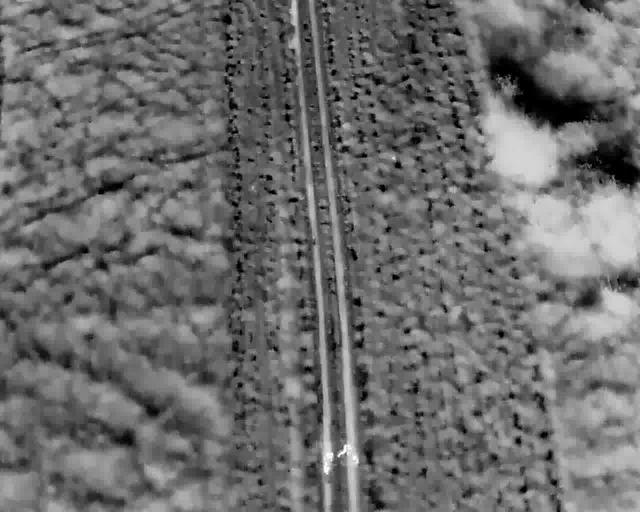person: (333, 398, 349, 417), (319, 402, 331, 421), (347, 409, 357, 428), (319, 416, 329, 434)
